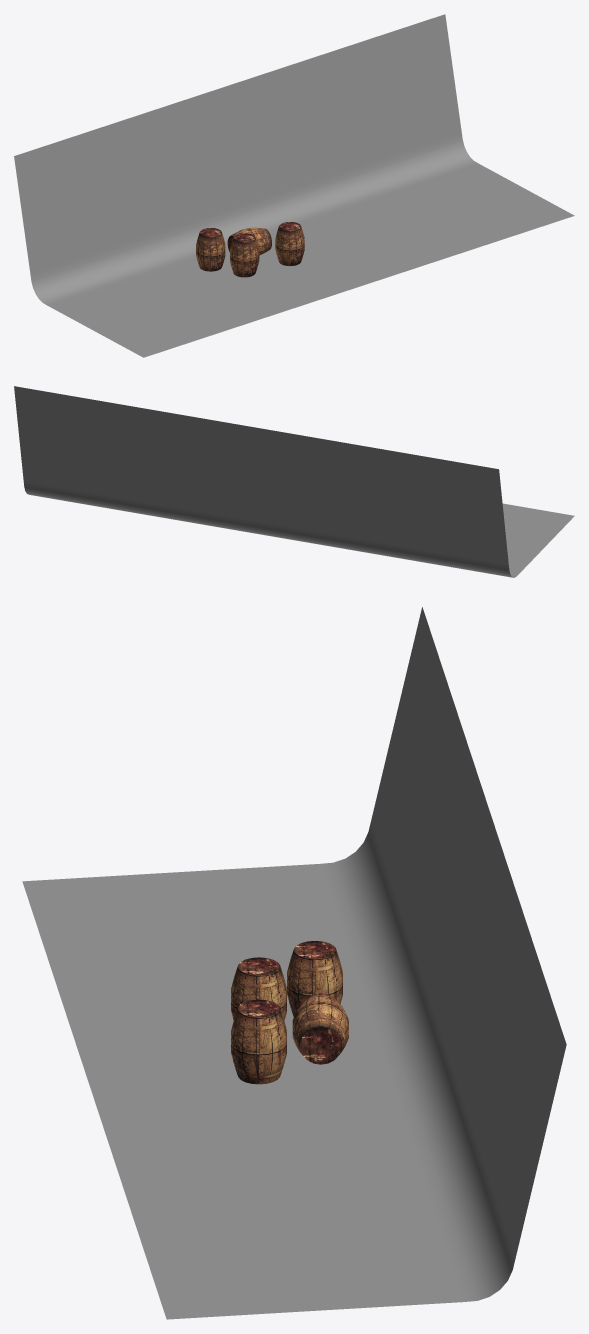
File: Barrel.FBX
3 renders of one model, top to bottom at view 1: azimuth 30°, elevation 25°; view 2: azimuth 150°, elevation 25°; view 3: azimuth 270°, elevation 25°, orthographic. The views are drawn at different scales.
Visible parts, largest first — view 1: Plane001, Cylinder001, Cylinder004, Cylinder003, Cylinder002; view 2: Plane001; view 3: Plane001, Cylinder004, Cylinder002, Cylinder003, Cylinder001.
Boxes of the visible parts, x1=… form: Plane001: x1=14, y1=14, x2=574, y2=357; Cylinder001: x1=230, y1=233, x2=259, y2=277; Cylinder004: x1=275, y1=222, x2=304, y2=265; Cylinder003: x1=196, y1=228, x2=225, y2=271; Cylinder002: x1=227, y1=227, x2=271, y2=255; Plane001: x1=14, y1=386, x2=574, y2=577; Plane001: x1=22, y1=607, x2=566, y2=1319; Cylinder004: x1=231, y1=999, x2=286, y2=1084; Cylinder002: x1=292, y1=993, x2=348, y2=1064; Cylinder003: x1=287, y1=941, x2=342, y2=1016; Cylinder001: x1=231, y1=957, x2=286, y2=1020.
Bounding box in the file's own units: 1328 × 339 × 662.
Materials: 2 (1 with a texture image).
